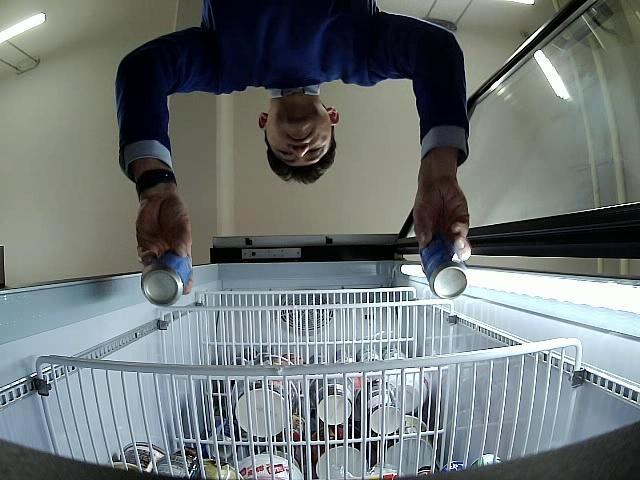15_letsbe: (422, 238, 468, 298), (140, 254, 190, 306)
